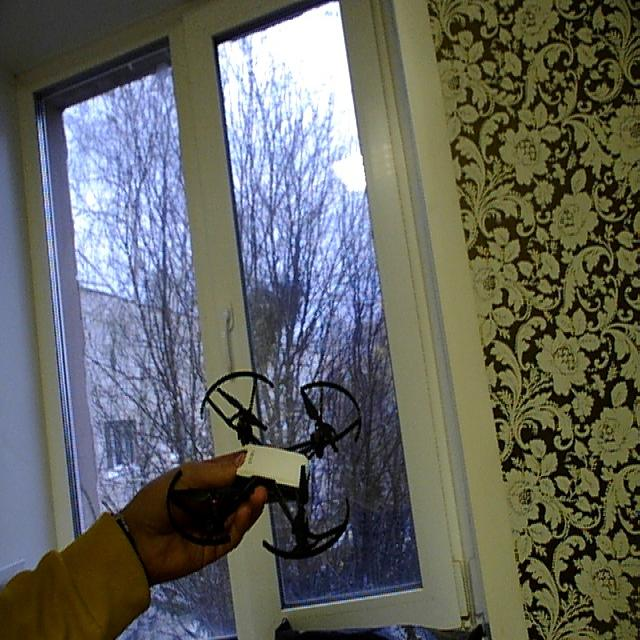drone: (162, 366, 374, 575)
